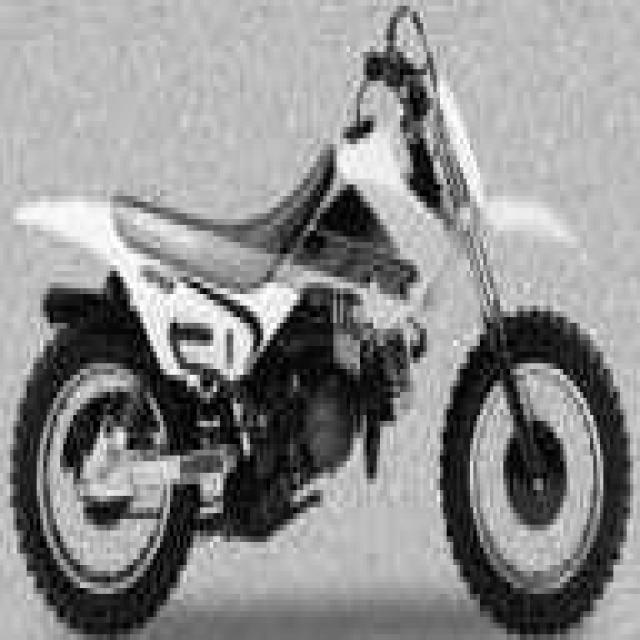Motorcycle: (15, 11, 629, 630)
